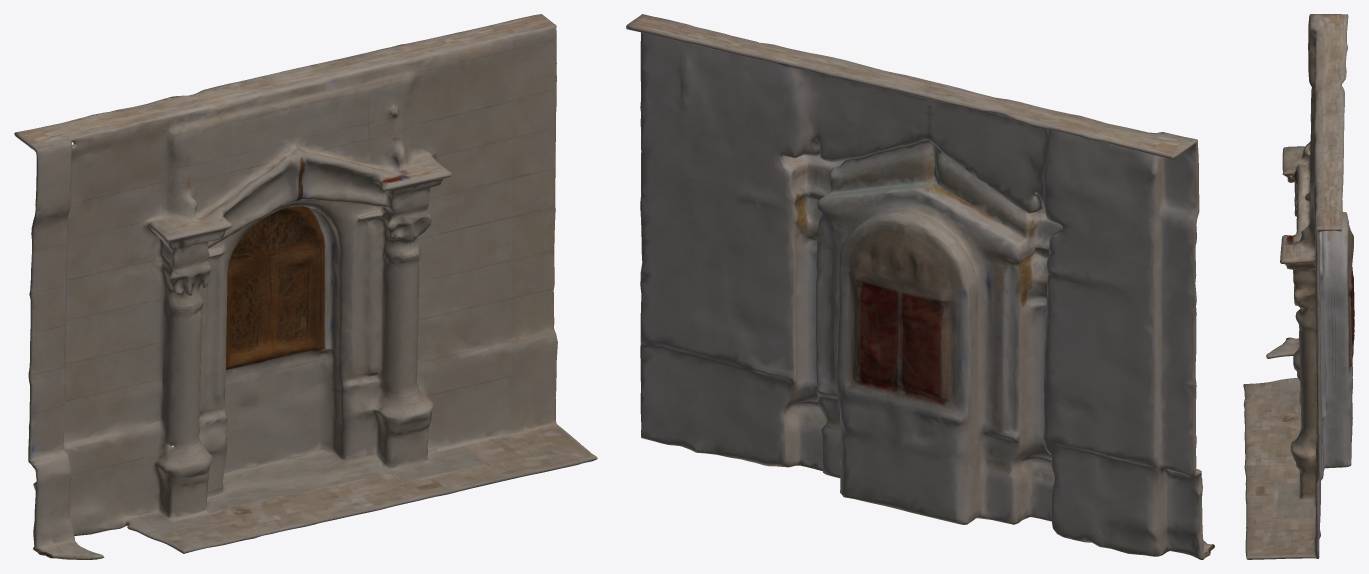
3 views of the same model, side by side, from view 1: azimuth 30°, elevation 25°; view 2: azimuth 150°, elevation 25°; view 3: azimuth 270°, elevation 25° (orthographic). The views are drawn at different scales.
Visible parts, largest first — view 1: file1; view 2: file1; view 3: file1.
Boxes of the visible parts, x1,y1,x2,y2 form: file1: [14, 14, 597, 559]; file1: [626, 14, 1214, 559]; file1: [1243, 14, 1354, 559].
Size of the model in its own units: 2 by 1.48 by 0.4446.
Materials: 1 (1 with a texture image).
